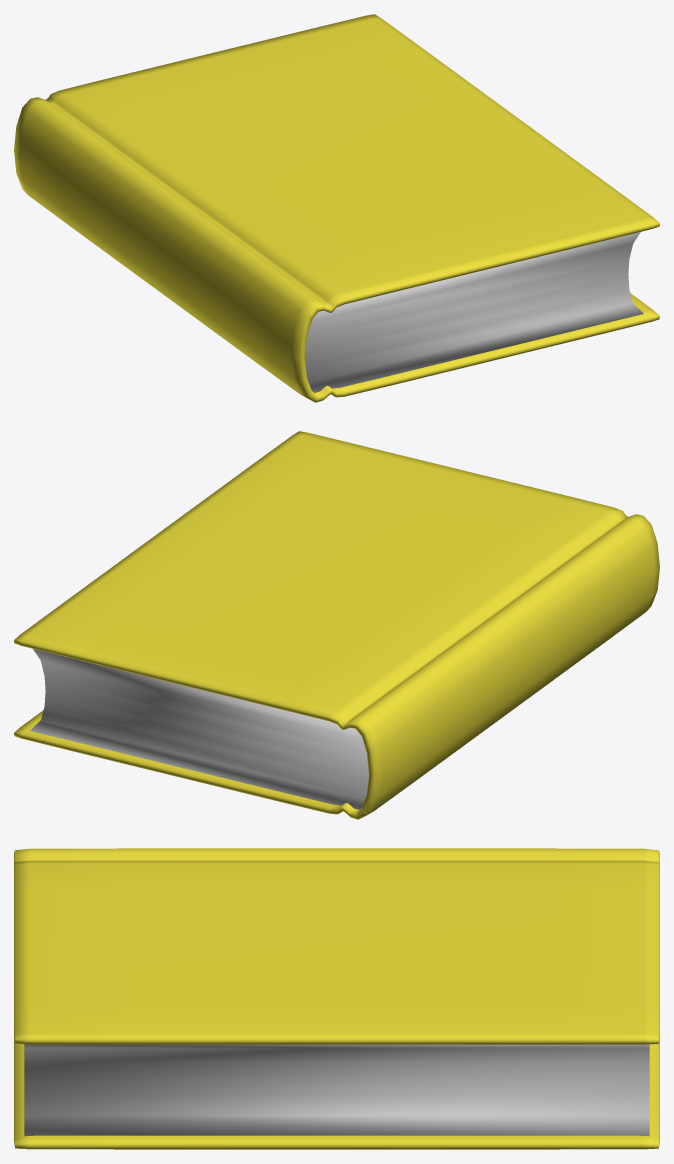
File: Keltainen kirja.fbx
3 views of the same model, one above another, from view 1: azimuth 30°, elevation 25°; view 2: azimuth 150°, elevation 25°; view 3: azimuth 270°, elevation 25° (orthographic). The views are drawn at different scales.
Visible parts, largest first — view 1: Kirja; view 2: Kirja; view 3: Kirja.
Boxes of the visible parts, x1,y1,x2,y2 form: Kirja: (14,14,659,402); Kirja: (14,431,659,819); Kirja: (14,848,659,1149).
Size of the model in its own units: 15.4 by 4.07 by 21.01.
